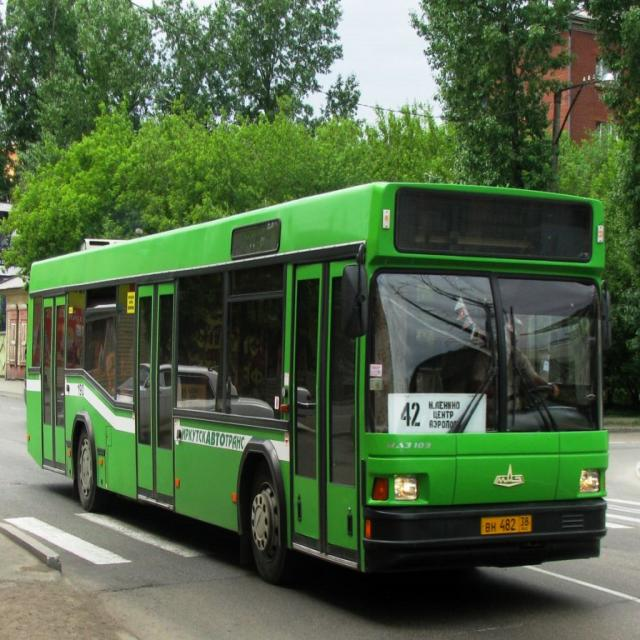number-of-bus: (402, 398, 423, 428)
